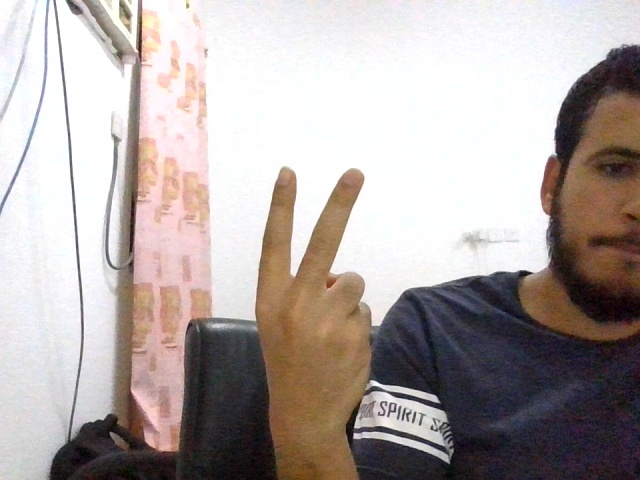Two: (255, 166, 372, 420)
